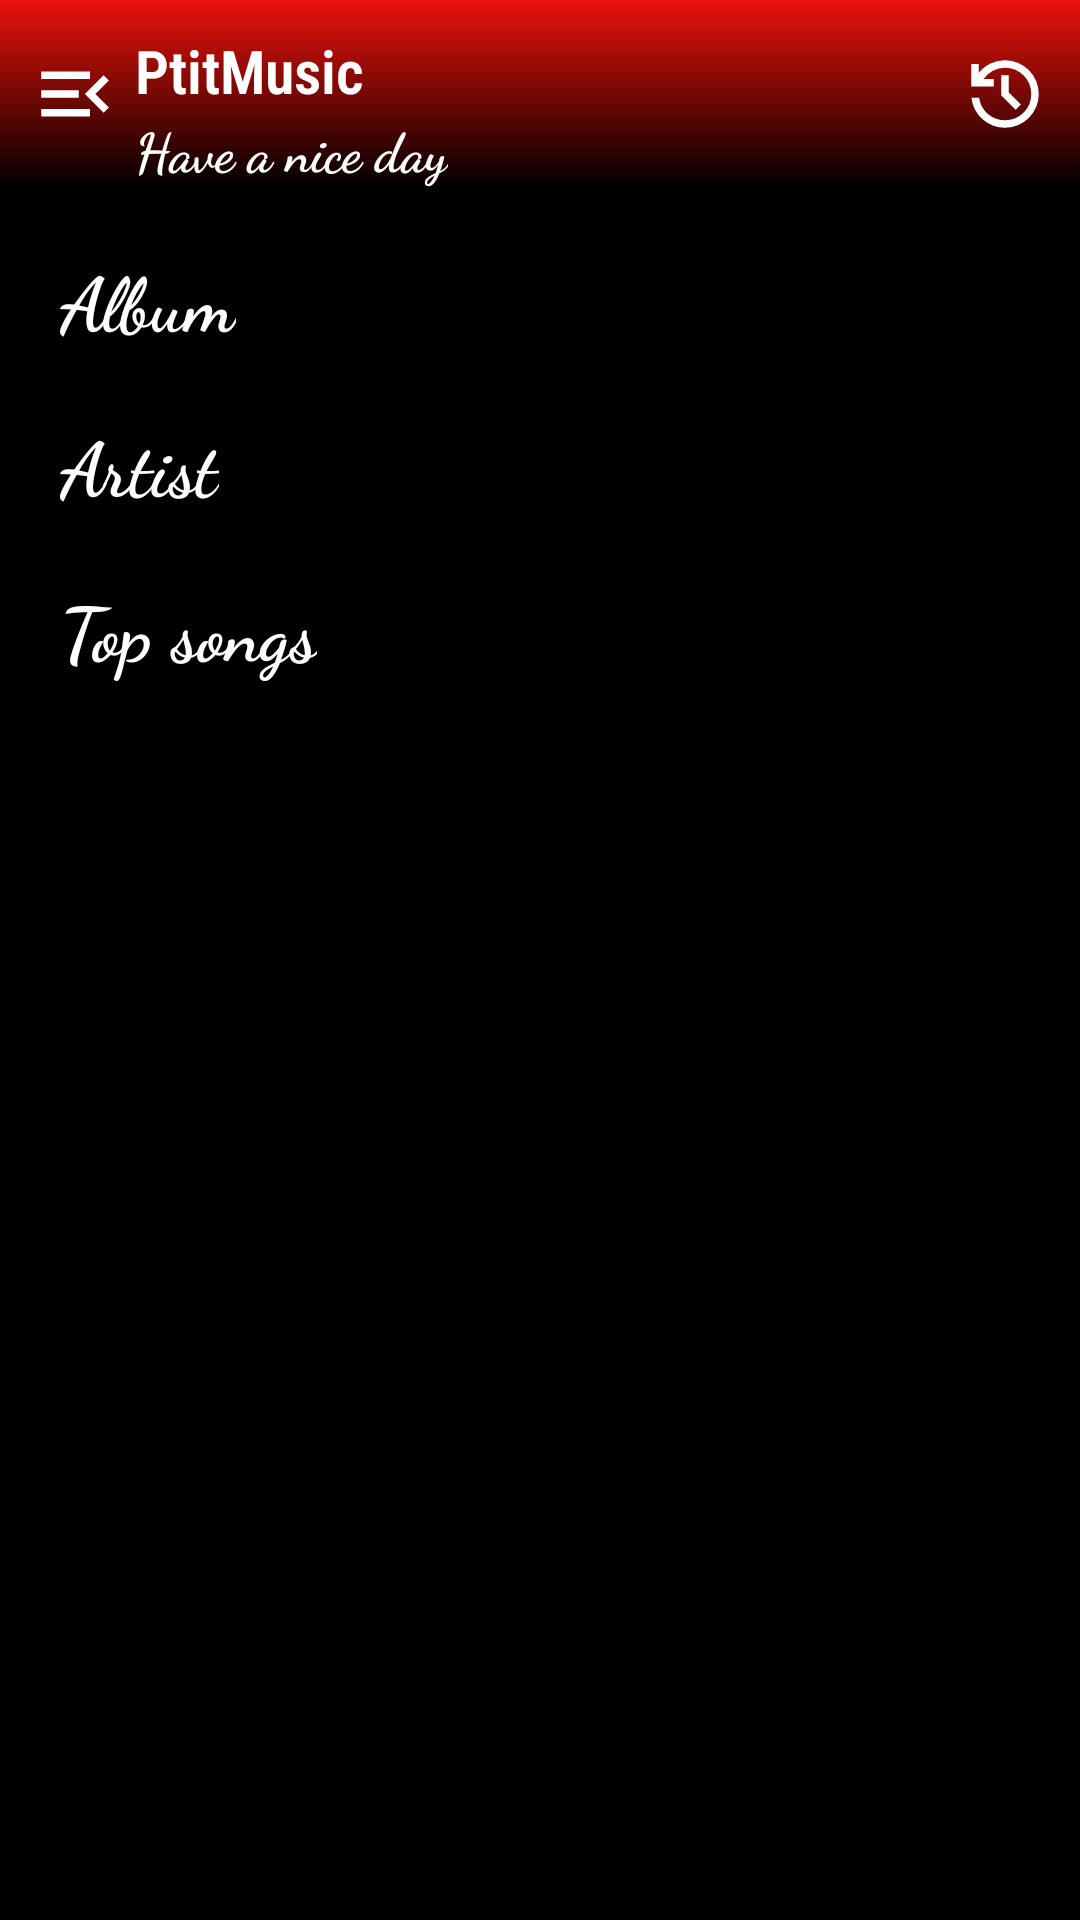

Where to tap for icons on this 1080 x 1920 app screen, as point (x, y):
history: point (1005, 94)
open: point (75, 94)
